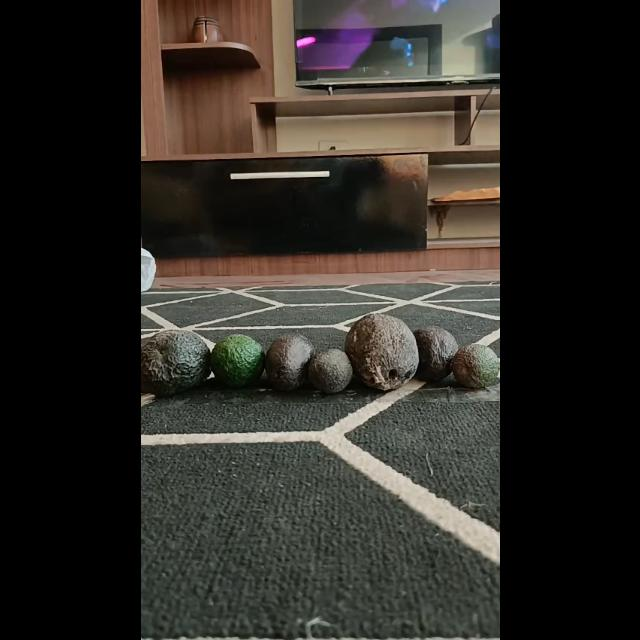Primera: (344, 312, 418, 390), (140, 329, 210, 397)
Segunda: (210, 334, 264, 388), (264, 334, 314, 391), (412, 325, 458, 381)
Tercera: (451, 343, 499, 389), (308, 348, 352, 394)
